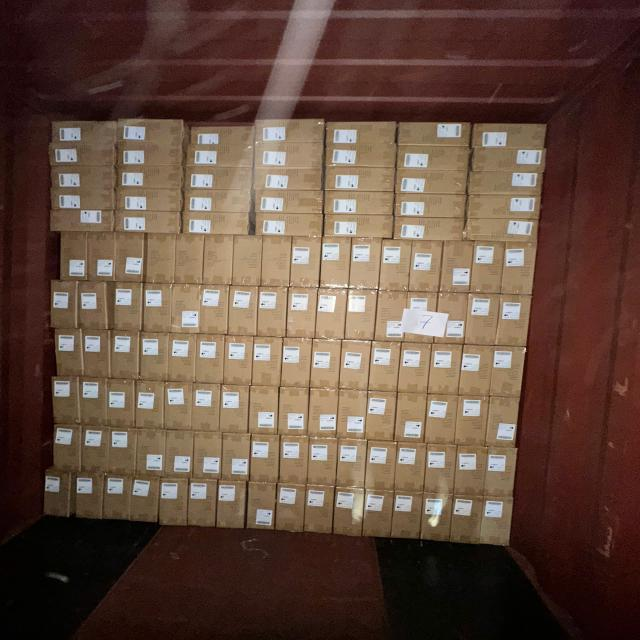Carton: (468, 166, 546, 196), (470, 122, 547, 150), (469, 146, 548, 172), (468, 193, 543, 220), (464, 215, 539, 242), (253, 142, 325, 170), (393, 168, 466, 195), (324, 121, 397, 148), (115, 166, 184, 194), (396, 122, 470, 148), (396, 145, 469, 171), (325, 143, 398, 169), (183, 189, 253, 216), (497, 296, 533, 348), (252, 120, 324, 146), (48, 187, 117, 214), (49, 166, 118, 193), (323, 191, 394, 217), (114, 141, 185, 167), (501, 244, 535, 298), (48, 142, 118, 168), (490, 346, 524, 399), (324, 167, 396, 192), (252, 212, 324, 237), (183, 169, 255, 194), (183, 211, 252, 237), (185, 143, 254, 169), (393, 194, 464, 219), (253, 191, 324, 216), (393, 218, 463, 243), (472, 243, 505, 296), (483, 446, 517, 497), (252, 170, 324, 194), (324, 214, 393, 239), (116, 118, 185, 143), (466, 295, 499, 347), (47, 209, 115, 234), (115, 189, 183, 214), (410, 243, 443, 294), (486, 398, 519, 449), (480, 497, 513, 548), (349, 238, 381, 290), (436, 294, 468, 346), (406, 293, 438, 345), (455, 397, 488, 447), (116, 211, 182, 236), (460, 344, 492, 395), (442, 243, 473, 295), (431, 343, 462, 395), (375, 292, 406, 344), (316, 290, 347, 341), (400, 342, 431, 393), (380, 242, 411, 293), (451, 495, 482, 546), (110, 284, 142, 333), (50, 120, 118, 143), (290, 239, 320, 291), (346, 290, 376, 342), (370, 340, 400, 392), (262, 238, 292, 290), (320, 240, 350, 292), (71, 473, 104, 520), (394, 442, 425, 492), (425, 395, 456, 445), (78, 284, 110, 332), (395, 393, 425, 444), (341, 339, 371, 390), (338, 390, 368, 441), (248, 385, 278, 435), (252, 337, 282, 387), (145, 234, 175, 284), (278, 386, 308, 436), (286, 290, 316, 340), (115, 233, 145, 283), (367, 392, 397, 442), (311, 340, 341, 390), (455, 445, 485, 495), (335, 489, 365, 539), (204, 236, 234, 286), (421, 495, 452, 543), (229, 287, 258, 338), (234, 236, 263, 287), (89, 232, 118, 283), (110, 331, 140, 380), (276, 483, 306, 532), (424, 444, 454, 493), (218, 480, 248, 529), (394, 493, 424, 542), (259, 288, 288, 338), (365, 440, 394, 490), (197, 334, 226, 384), (282, 338, 311, 388), (305, 486, 334, 536), (143, 283, 172, 333), (175, 234, 204, 284), (338, 439, 367, 489), (225, 336, 254, 386), (172, 286, 201, 336), (187, 479, 217, 527), (136, 430, 166, 478), (201, 286, 229, 337), (309, 437, 338, 486), (220, 386, 249, 435), (140, 333, 169, 382), (136, 380, 165, 429), (310, 390, 338, 440), (195, 431, 223, 481), (169, 334, 197, 384), (193, 384, 221, 434), (81, 376, 109, 426), (363, 492, 392, 540), (247, 482, 276, 530), (280, 436, 309, 484), (131, 476, 160, 524), (160, 478, 189, 526), (42, 470, 71, 518), (61, 231, 88, 282), (222, 433, 250, 482), (166, 382, 194, 431), (250, 436, 279, 483), (82, 427, 111, 474), (188, 124, 256, 144), (167, 430, 194, 480), (84, 331, 112, 379), (56, 330, 84, 378), (103, 474, 131, 522), (54, 423, 83, 469), (108, 378, 135, 427), (53, 377, 81, 424), (108, 428, 136, 475), (52, 282, 79, 330)
